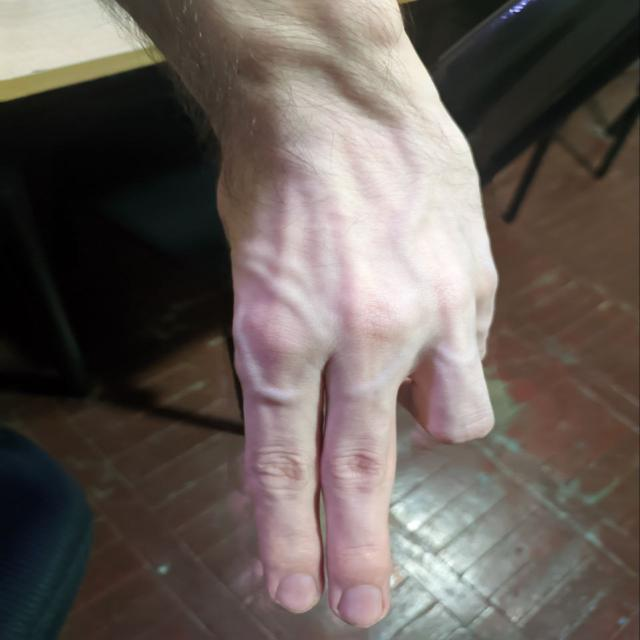p: (169, 95, 541, 625)
